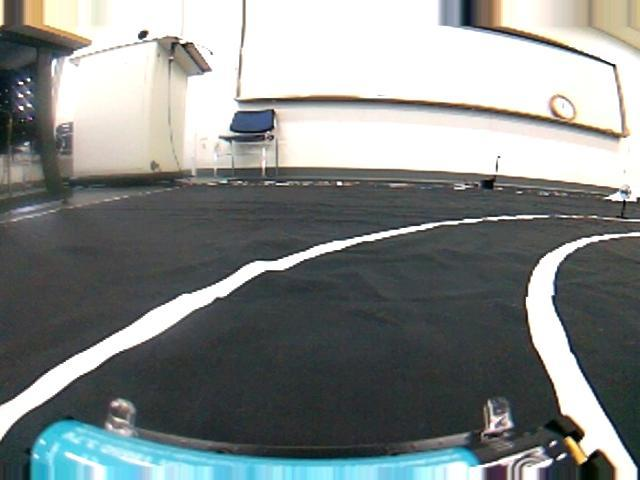right: (3, 211, 640, 480)
